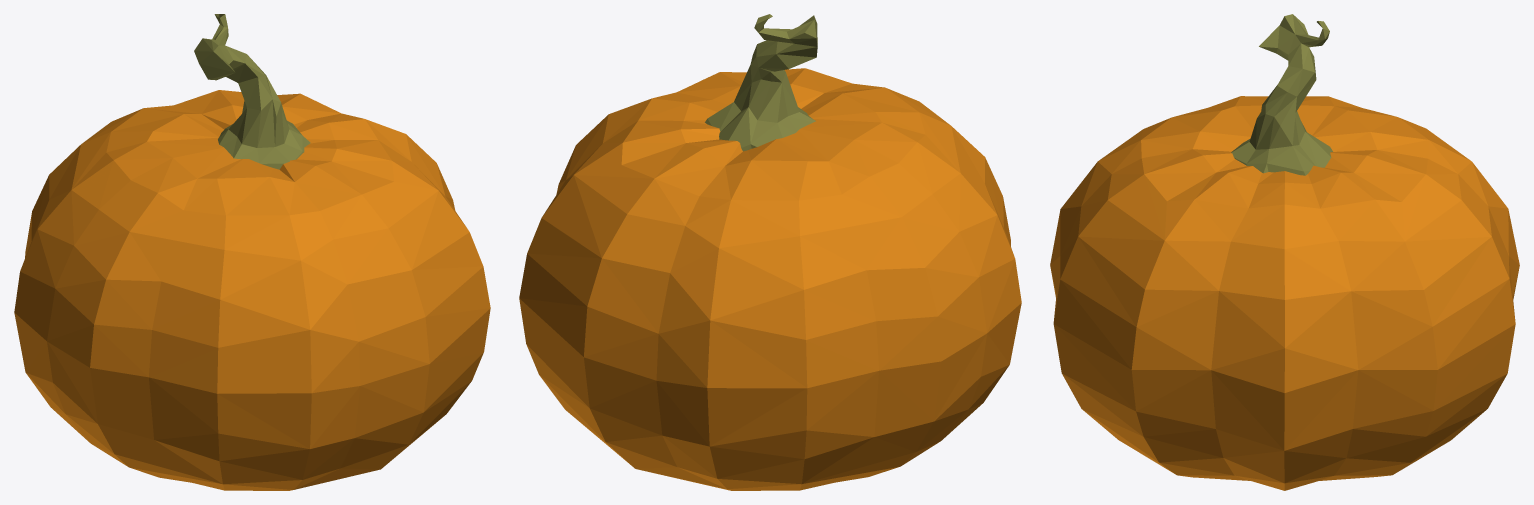
Rendered from Pumpkin_001.fbx.
3 renders of one model, left to right at view 1: azimuth 30°, elevation 25°; view 2: azimuth 150°, elevation 25°; view 3: azimuth 270°, elevation 25°, orthographic. The views are drawn at different scales.
Parts seen in each view (by area): view 1: Pumpkin_001; view 2: Pumpkin_001; view 3: Pumpkin_001.
Part boxes in pixels (x1=…): Pumpkin_001: x1=14, y1=14, x2=490, y2=490; Pumpkin_001: x1=519, y1=14, x2=1021, y2=490; Pumpkin_001: x1=1050, y1=14, x2=1519, y2=490.
Size of the model in its own units: 0.4762 by 0.4684 by 0.477.
